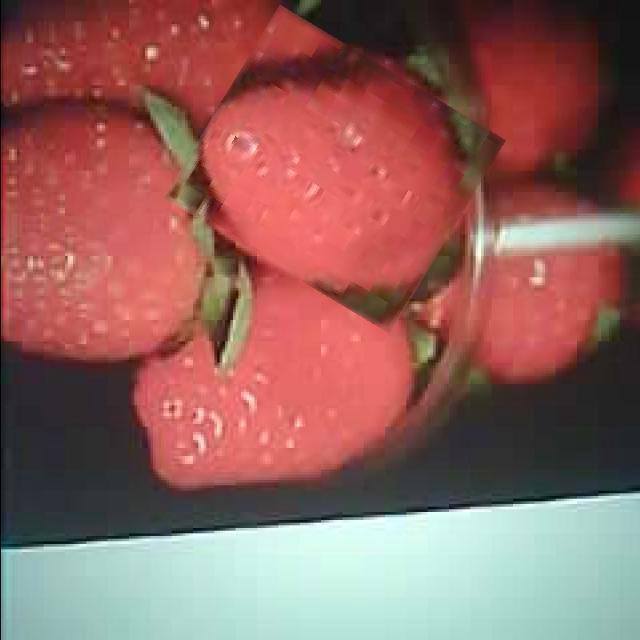strawberry: (183, 30, 485, 308)
